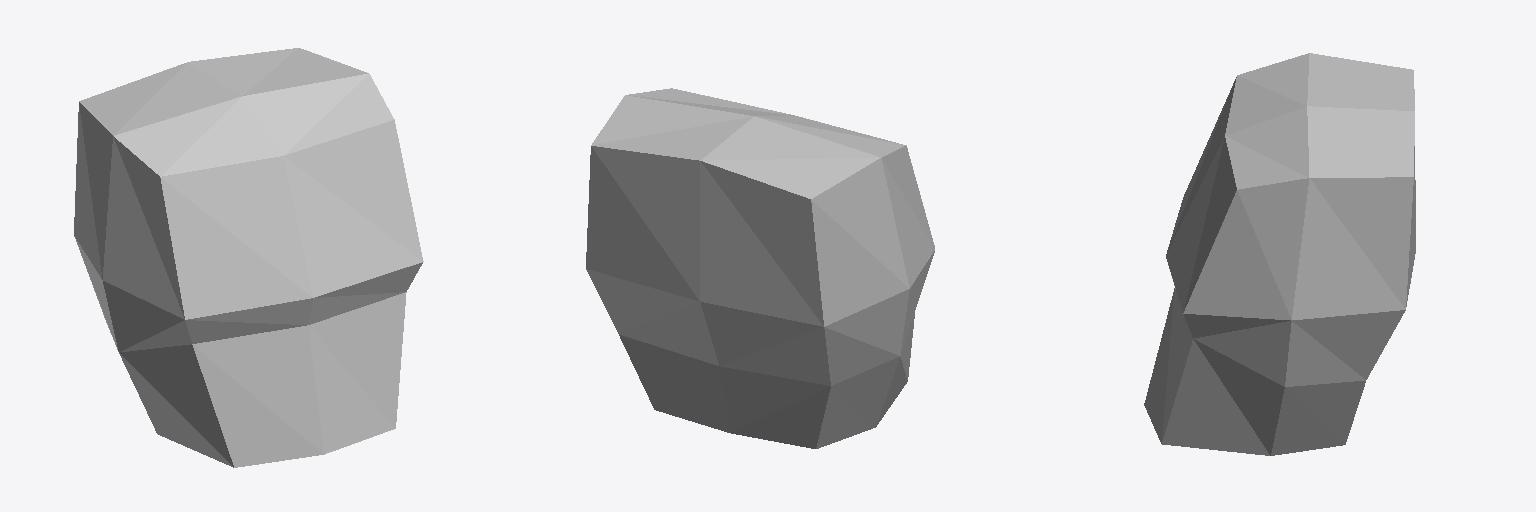
File: Toraxobj.obj
3 renders of one model, left to right at view 1: azimuth 30°, elevation 25°; view 2: azimuth 150°, elevation 25°; view 3: azimuth 270°, elevation 25°, orthographic.
Visible parts, largest first — view 1: Torax_Cube.002; view 2: Torax_Cube.002; view 3: Torax_Cube.002.
Part boxes in pixels (left/top/right/bottom): Torax_Cube.002: left=74, top=48, right=423, bottom=467; Torax_Cube.002: left=586, top=88, right=934, bottom=448; Torax_Cube.002: left=1144, top=53, right=1415, bottom=455.
Size of the model in its own units: 0.3694 by 0.3581 by 0.2945.